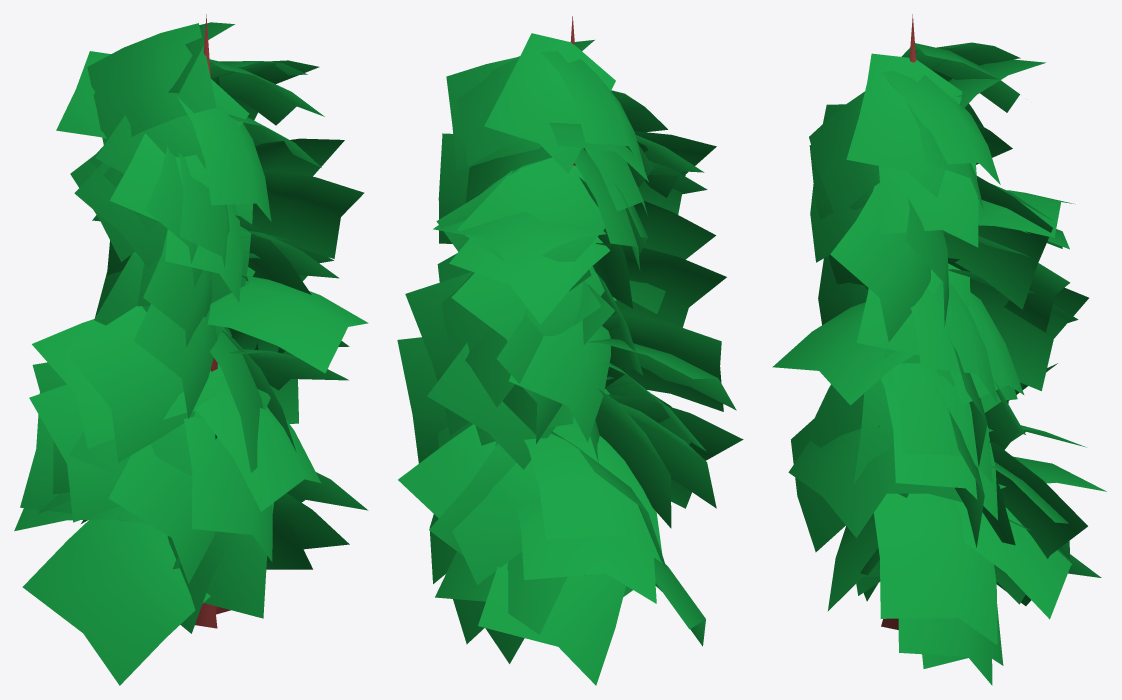
Rendered from Pine_Tree_02.FBX.
3 renders of one model, left to right at view 1: azimuth 30°, elevation 25°; view 2: azimuth 150°, elevation 25°; view 3: azimuth 270°, elevation 25°, orthographic. The views are drawn at different scales.
Parts seen in each view (by area): view 1: tree2_trunk; view 2: tree2_trunk; view 3: tree2_trunk.
Boxes of the visible parts, box(x1,y1,x2,y2) form: tree2_trunk: box(14, 14, 368, 685); tree2_trunk: box(397, 16, 743, 685); tree2_trunk: box(772, 14, 1106, 685).
Size of the model in its own units: 1601 by 3148 by 1489.
